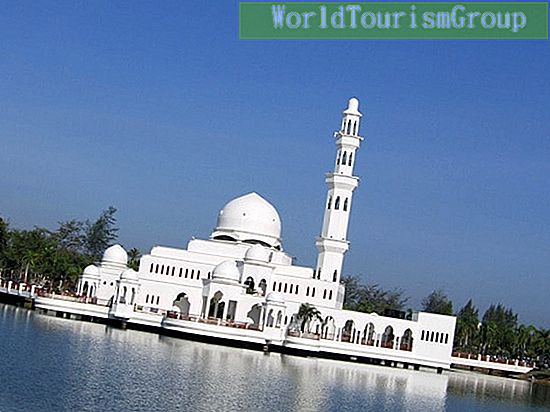Mosque: (77, 83, 447, 354)
